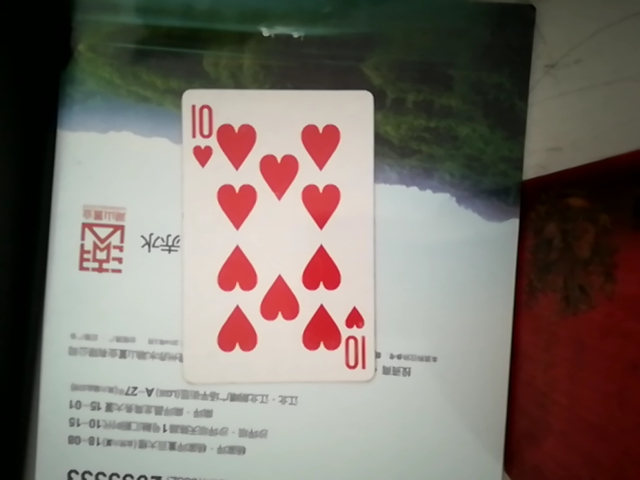hx 10: (178, 80, 375, 392)
